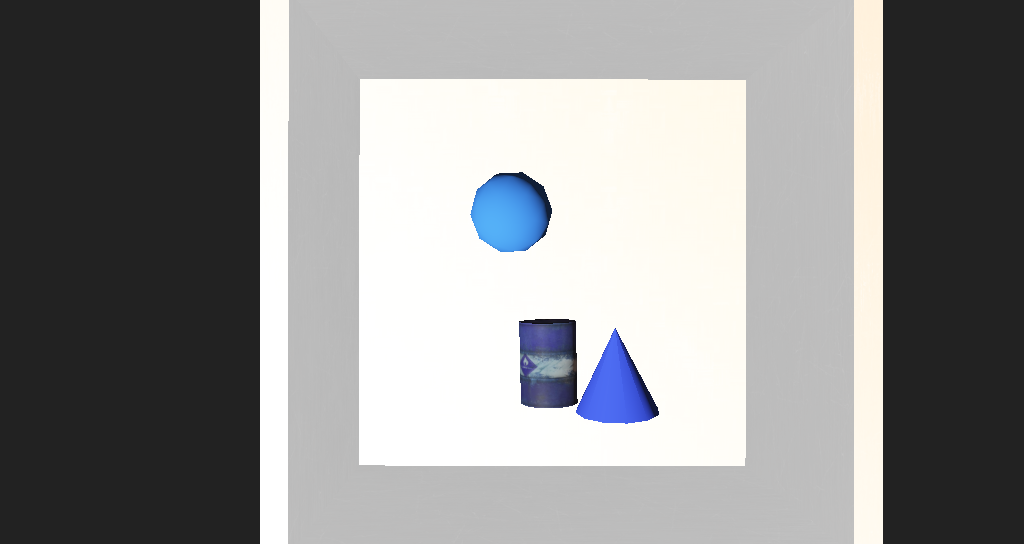cone: (482, 293, 529, 346)
cylinder: (515, 298, 603, 351)
sphere: (438, 217, 505, 260)
